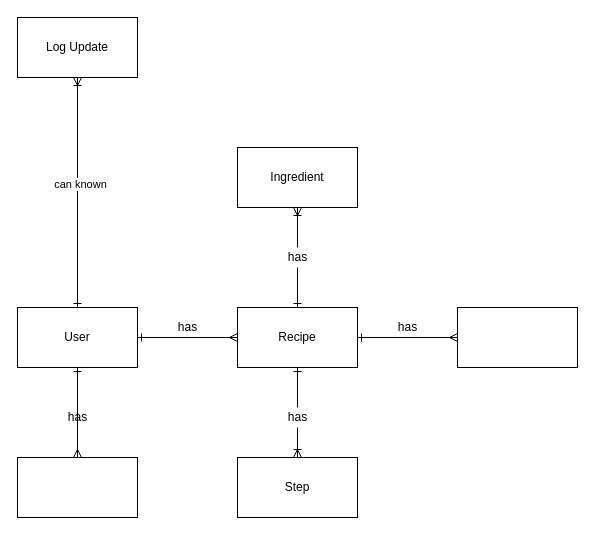
The diagram is 595 pixels wide and 535 high, and some of its shapes have lost their labels. The box of each missing label's shape, as (x1, y1, x2, y2) in pixels:
Bookmark Recipe: (16, 456, 138, 518)
Stars: (456, 306, 578, 368)
